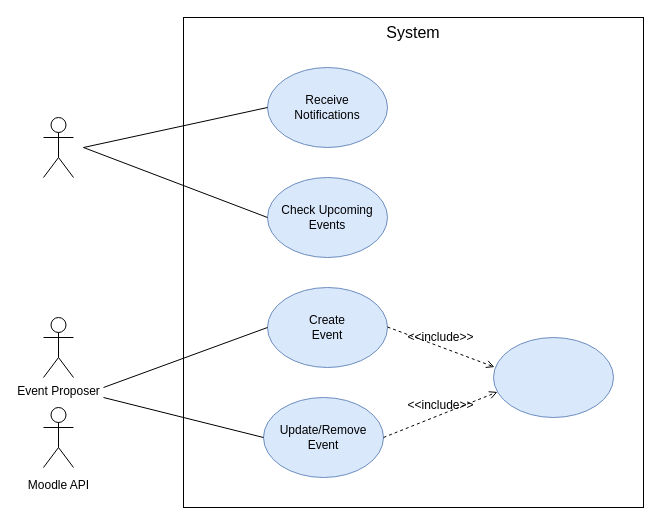
The diagram is 661 pixels wide and 525 high, and some of its shapes have lost their labels. Here are the shapes that lost their labels. From the top down, the centre of each, then its label:
point (58, 147): Student
point (553, 377): Send Notification
